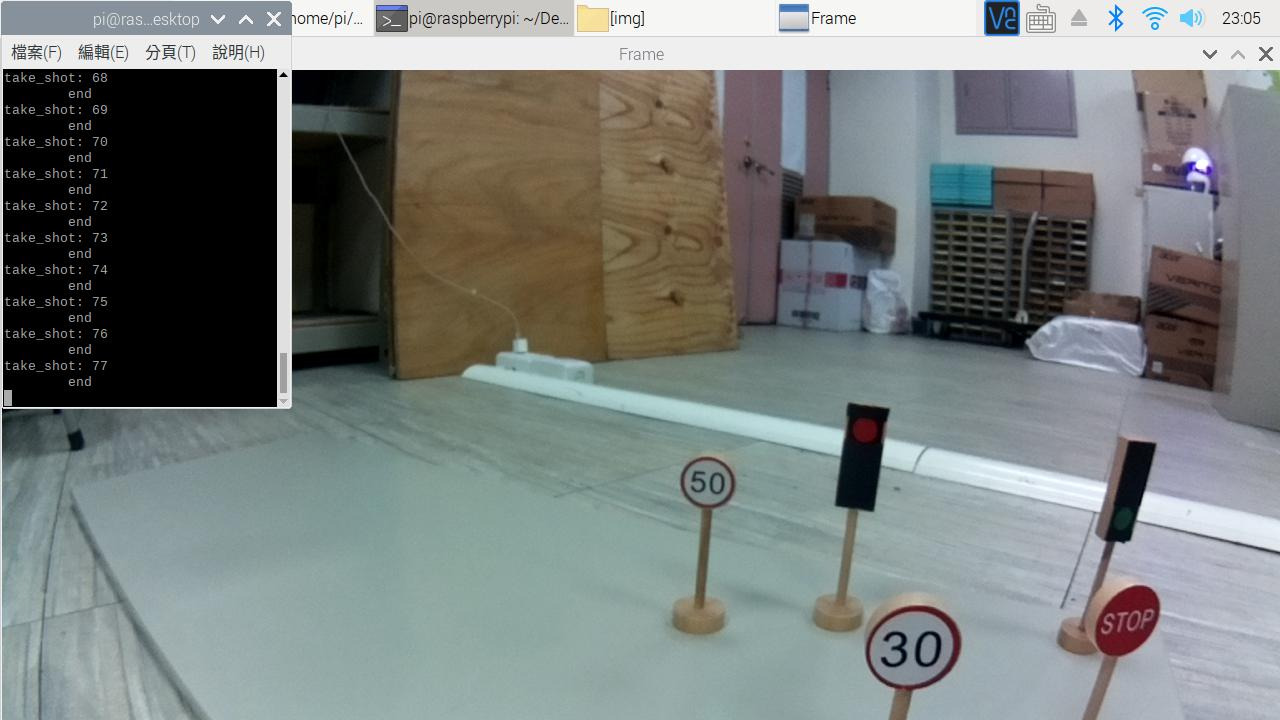Green: (1095, 431, 1162, 545)
Red: (834, 397, 892, 518)
Speed30: (860, 601, 962, 696)
Speed50: (674, 445, 734, 523)
Stop: (1082, 575, 1168, 665)
